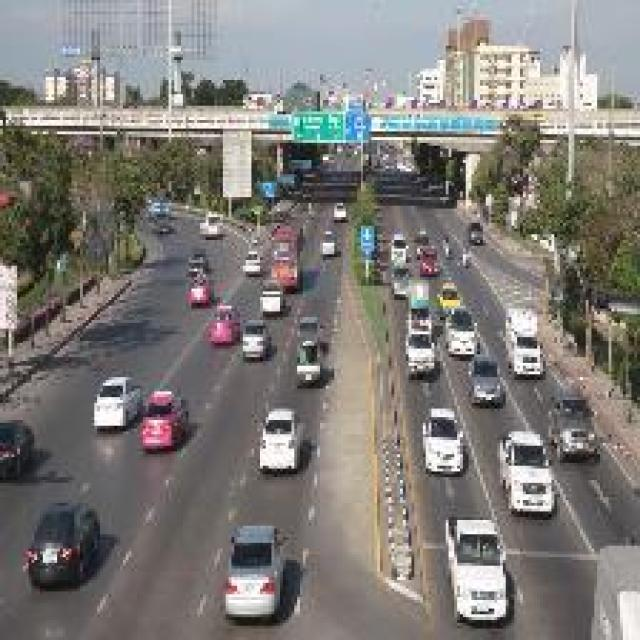other: (182, 255, 294, 363), (398, 240, 484, 349), (246, 397, 307, 477), (140, 366, 179, 456)
